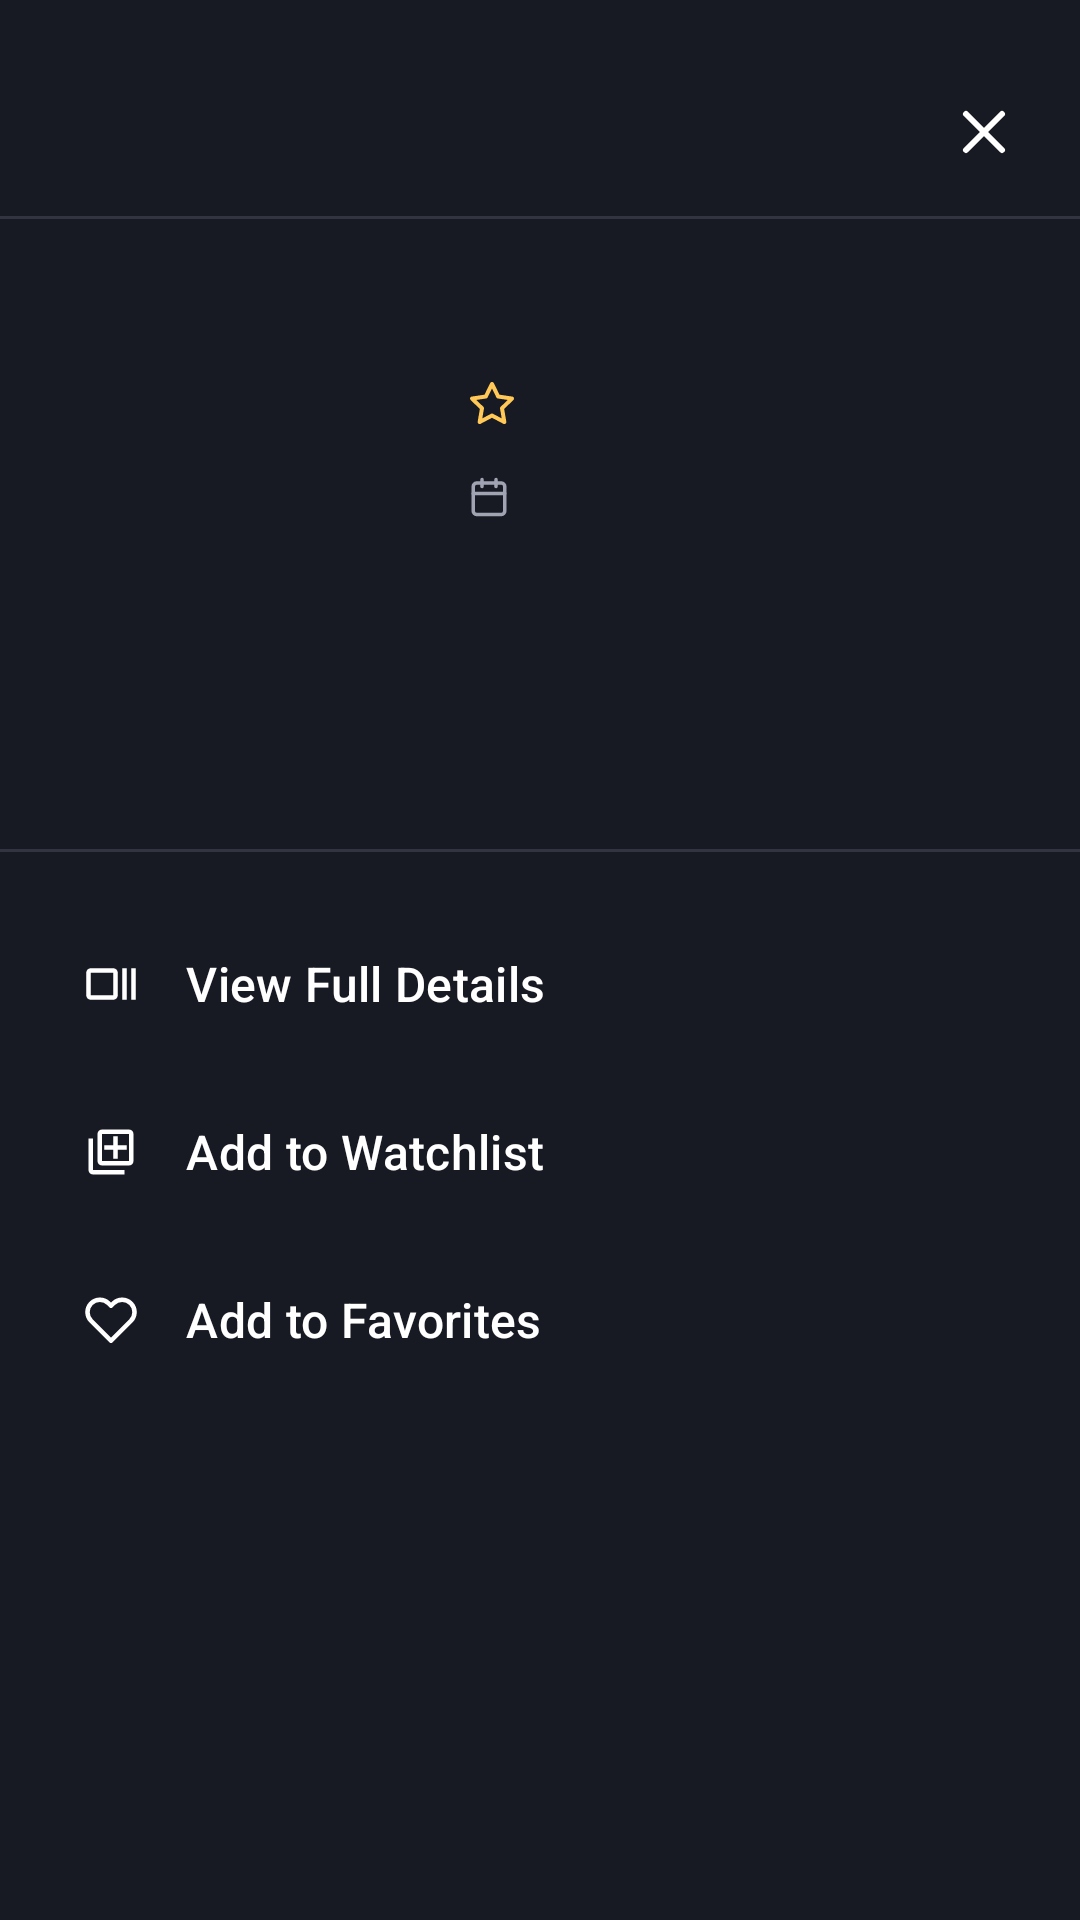

Named icons in this screenshot (1080×1920) and their centers, (x,y):
calendar: (489,497)
Close: (984,131)
star: (492,403)
